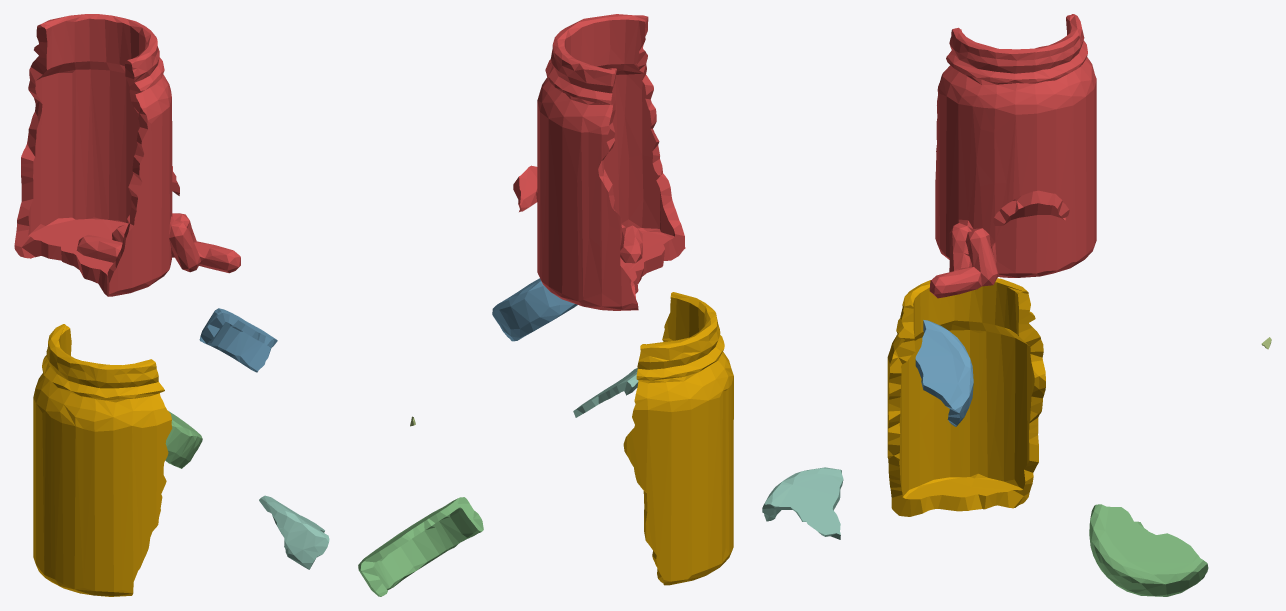
Rendered from fractured_27_6pcs_transformed.glb.
The picture shows the model from 3 angles, left to right: view 1: azimuth 30°, elevation 25°; view 2: azimuth 150°, elevation 25°; view 3: azimuth 270°, elevation 25°; orthographic projection. The views are drawn at different scales.
Parts seen in each view (by area): view 1: piece_1.obj, piece_0.obj, piece_2.obj, piece_4.obj, piece_3.obj; view 2: piece_1.obj, piece_0.obj, piece_3.obj, piece_2.obj, piece_4.obj; view 3: piece_1.obj, piece_0.obj, piece_3.obj, piece_2.obj, piece_4.obj.
Boxes of the visible parts, box(x1,y1,x2,y2) form: piece_1.obj: box(14, 14, 240, 296); piece_0.obj: box(33, 324, 172, 596); piece_2.obj: box(199, 308, 277, 372); piece_4.obj: box(259, 495, 329, 569); piece_3.obj: box(165, 411, 202, 468); piece_1.obj: box(513, 14, 685, 310); piece_0.obj: box(623, 292, 733, 585); piece_3.obj: box(358, 497, 483, 596); piece_2.obj: box(492, 278, 577, 341); piece_4.obj: box(573, 368, 638, 417); piece_1.obj: box(929, 14, 1096, 298); piece_0.obj: box(887, 278, 1045, 516); piece_3.obj: box(1089, 504, 1208, 596); piece_2.obj: box(915, 320, 973, 426); piece_4.obj: box(762, 467, 843, 539).
Size of the model in its own units: 1 by 2 by 1.85.
